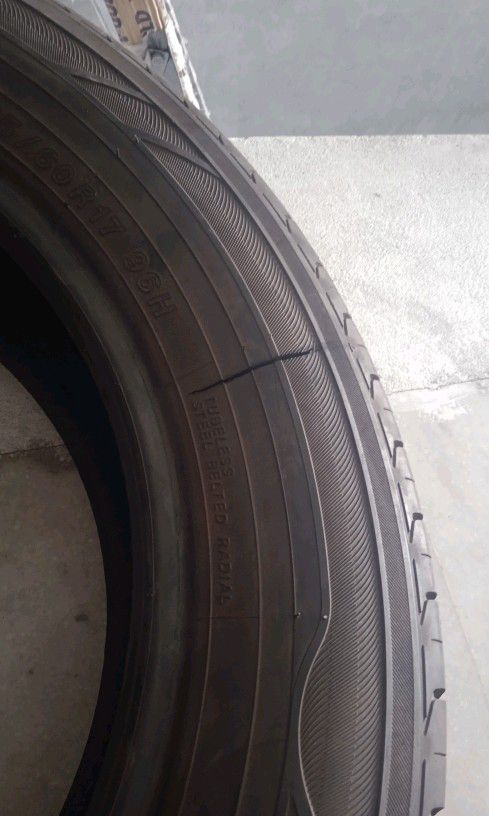cut: (182, 343, 331, 400)
